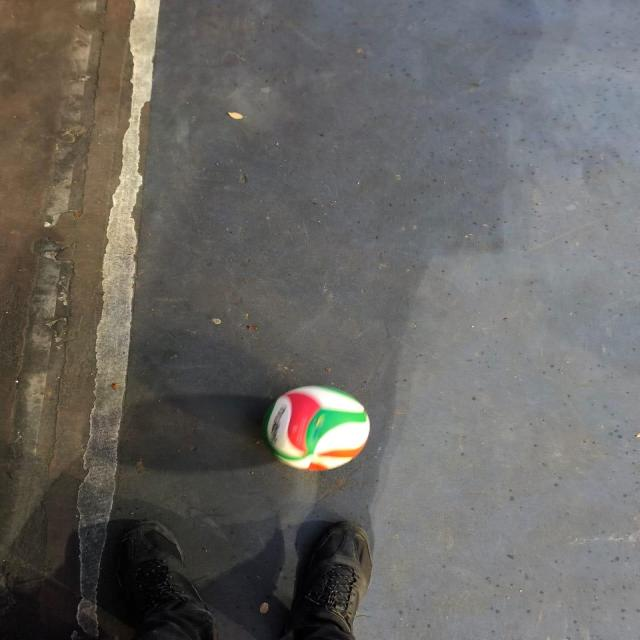volleyball: (264, 384, 370, 470)
